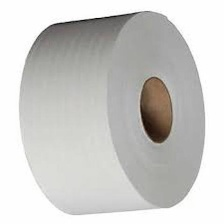tissue: (12, 6, 209, 220)
